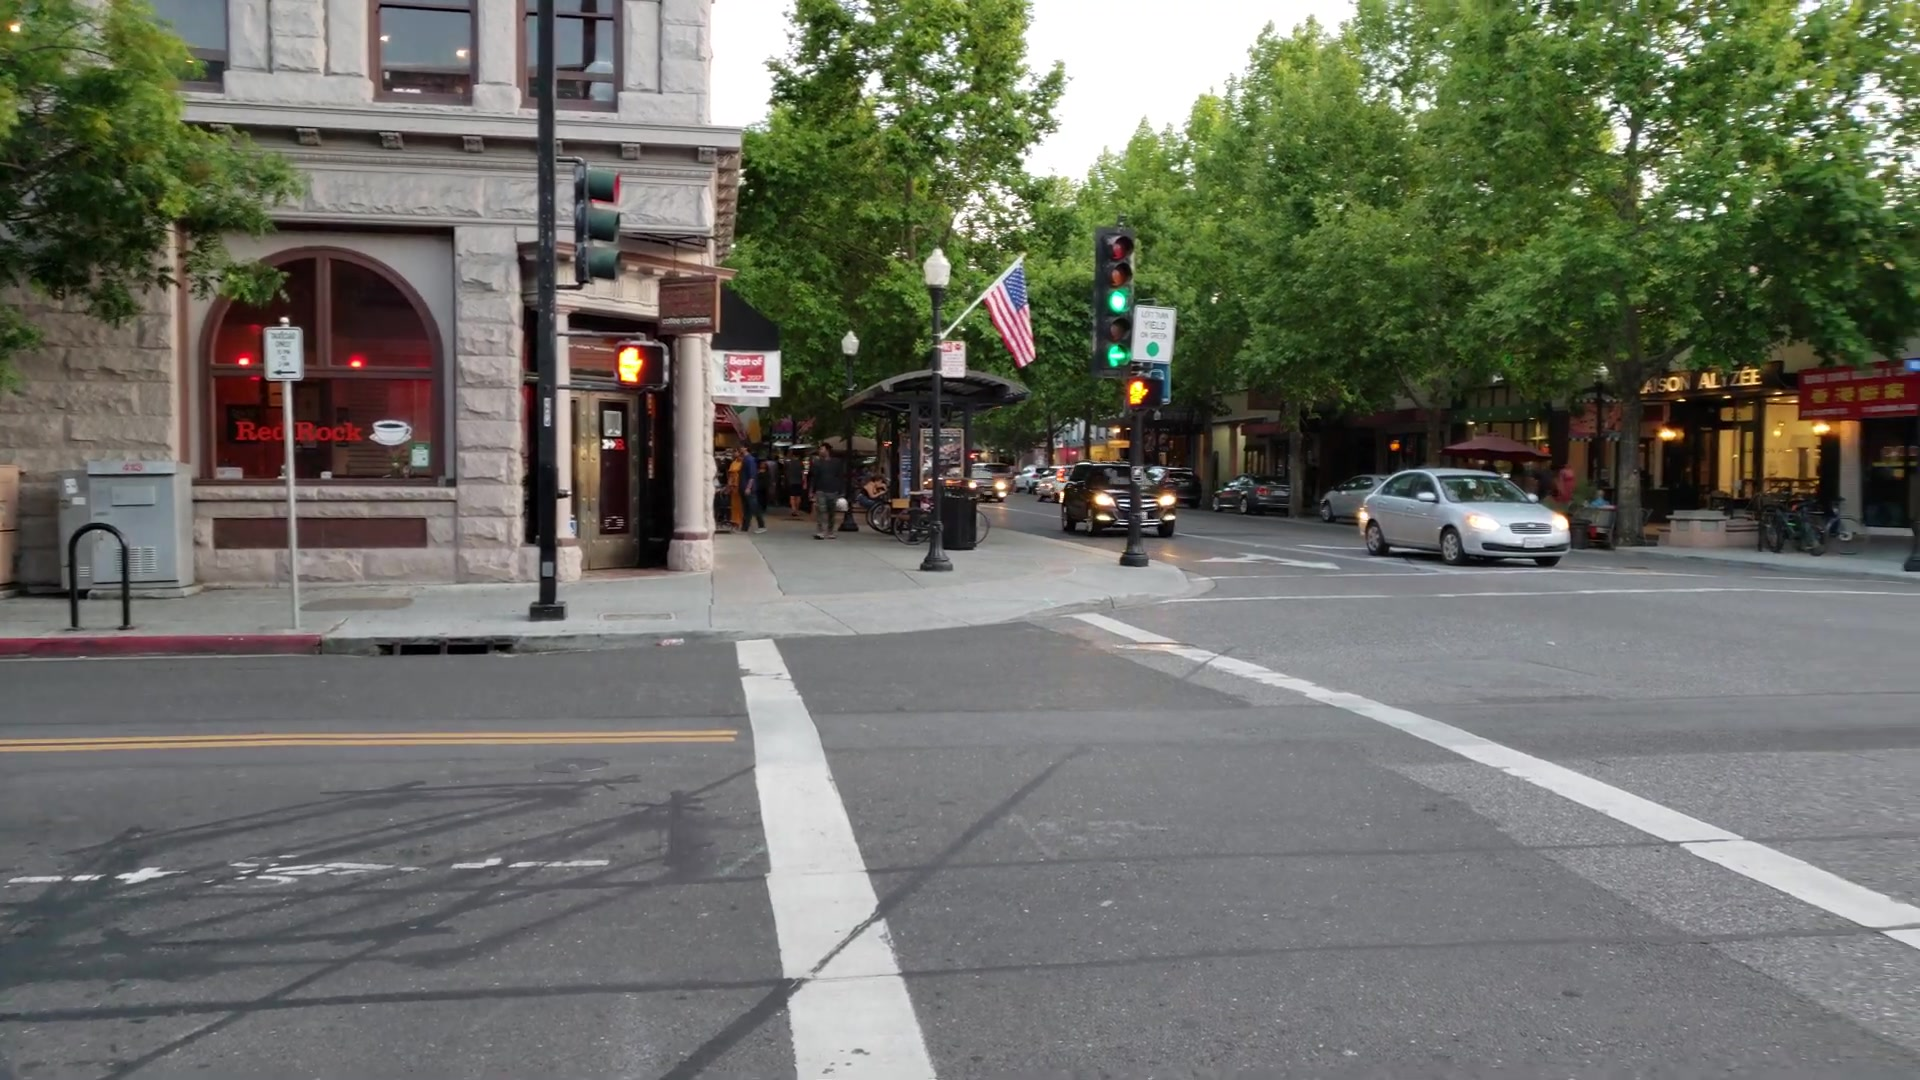vehicle: (1357, 469, 1571, 567)
